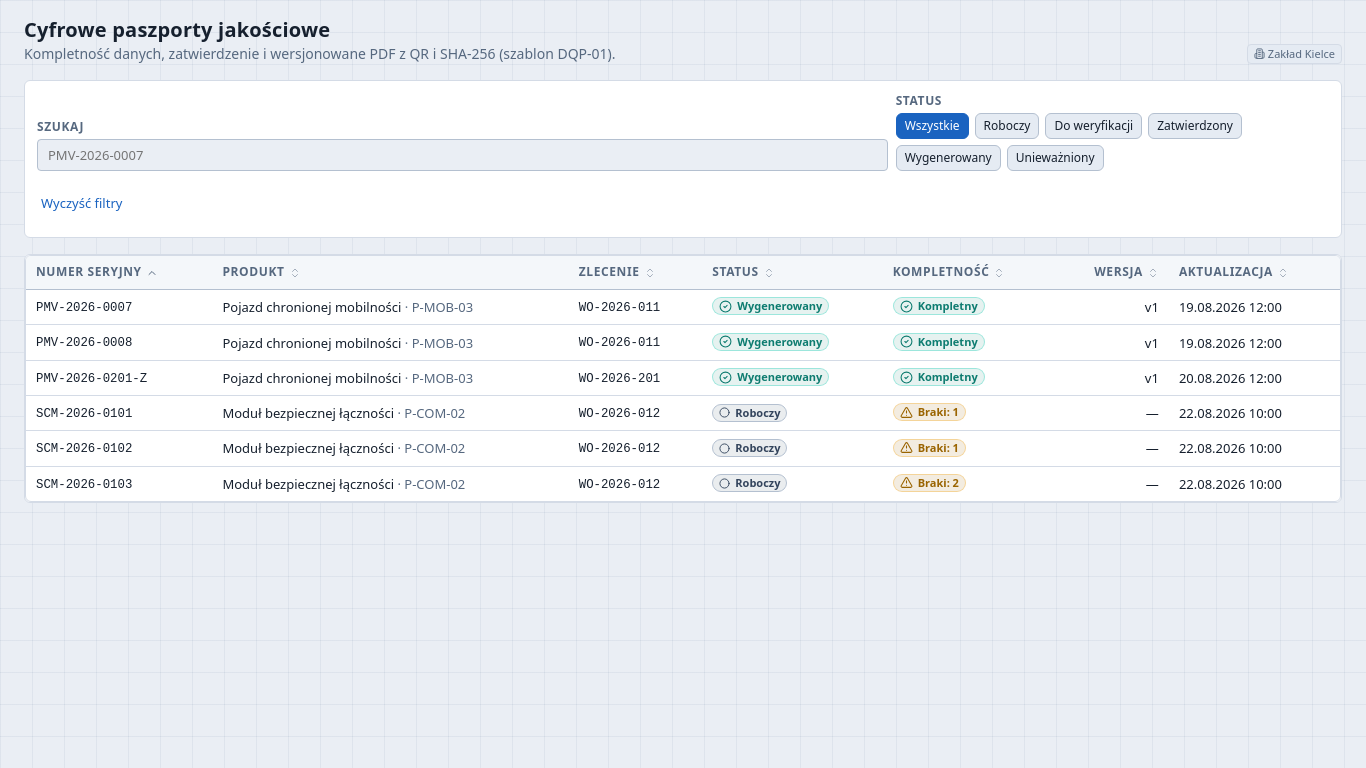
Test: Passports › list filters by status
Expected: the element with test id "passports-table" shows "PMV-2026-0007", [36,301,132,315]
Click the button with test id "passport-filter-Draft" at [1007, 126], box [975,113,1040,139]
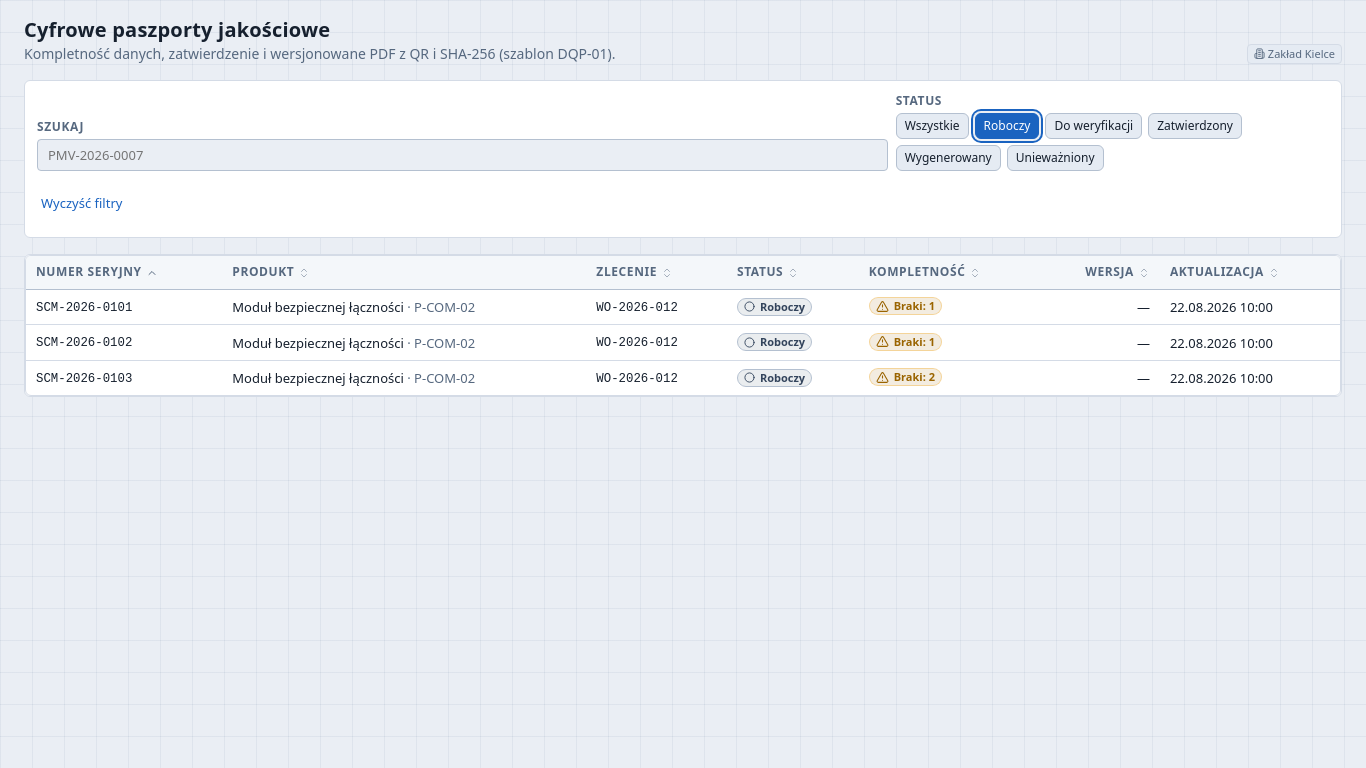
Result: the element with test id "passports-table" no longer shows "PMV-2026-0007" at [25,255,1341,396]
Result: the element with test id "passports-table" shows "SCM-2026-0103" at [36,372,132,386]
